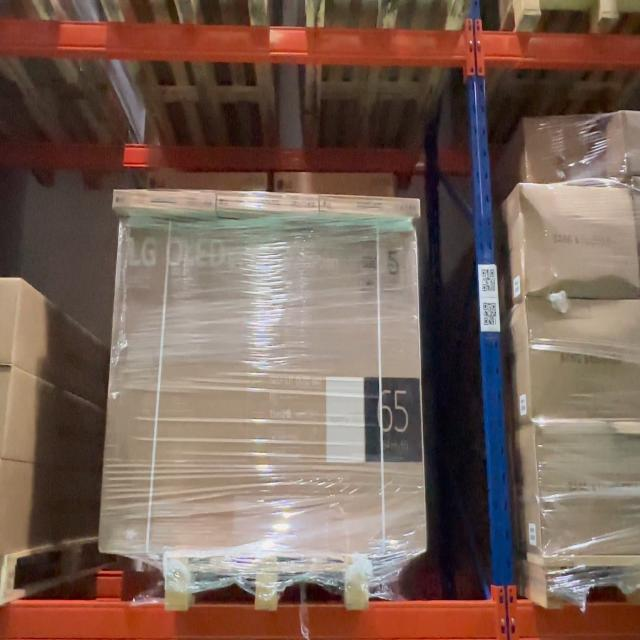box: (122, 227, 416, 550), (320, 192, 420, 222), (111, 189, 214, 215), (218, 194, 318, 216)
